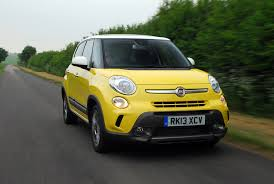car: (60, 35, 231, 157)
